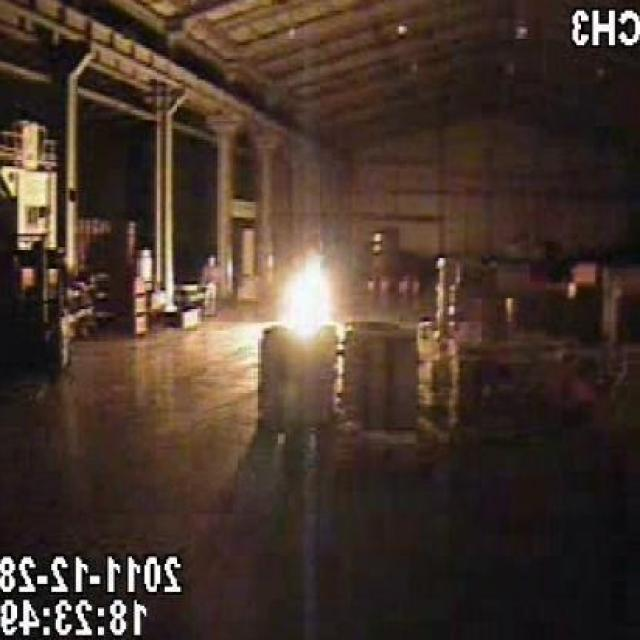smoke: (286, 258, 340, 339)
